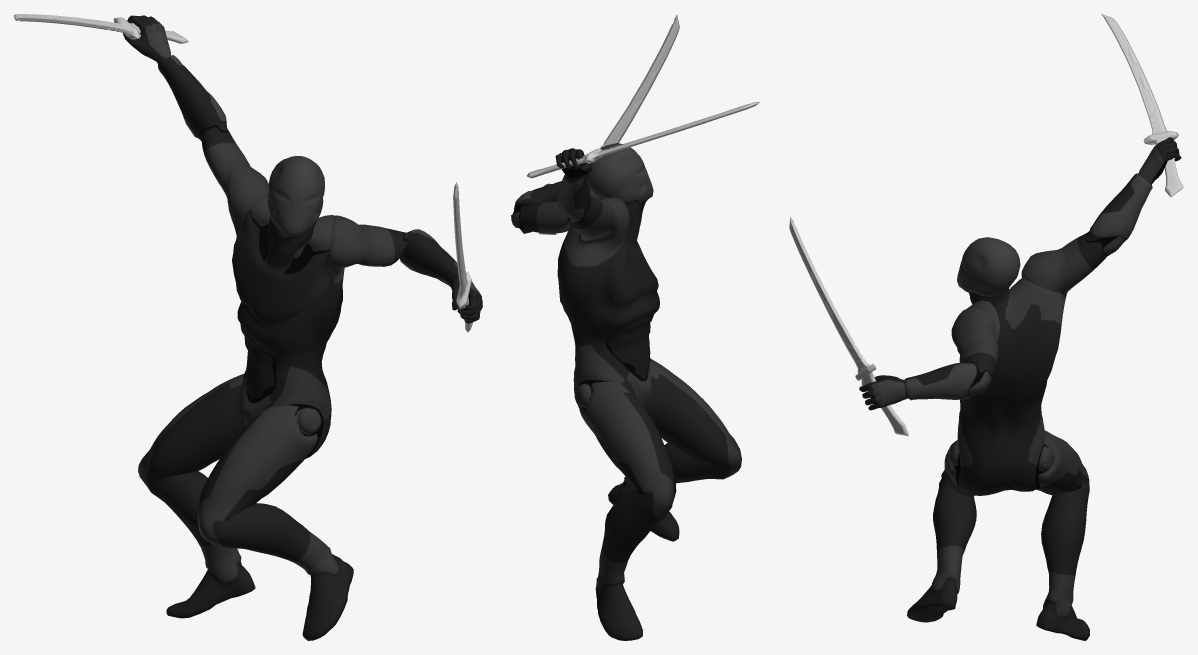
3 renders of one model, left to right at view 1: azimuth 30°, elevation 25°; view 2: azimuth 150°, elevation 25°; view 3: azimuth 270°, elevation 25°, orthographic. The views are drawn at different scales.
Parts seen in each view (by area): view 1: Cyborg_Ninja_Killer, Sword_l001, Sword_l; view 2: Cyborg_Ninja_Killer, Sword_l, Sword_l001; view 3: Cyborg_Ninja_Killer, Sword_l001, Sword_l.
Boxes of the visible parts, x1,y1,x2,y2 form: Cyborg_Ninja_Killer: (123, 15, 482, 640); Sword_l001: (14, 14, 188, 43); Sword_l: (453, 182, 473, 332); Cyborg_Ninja_Killer: (511, 143, 741, 640); Sword_l: (539, 14, 679, 234); Sword_l001: (527, 102, 760, 178); Cyborg_Ninja_Killer: (859, 137, 1181, 640); Sword_l001: (1101, 14, 1183, 196); Sword_l: (789, 216, 908, 436).
Bounding box in the file's own units: 127 × 218 × 141.
